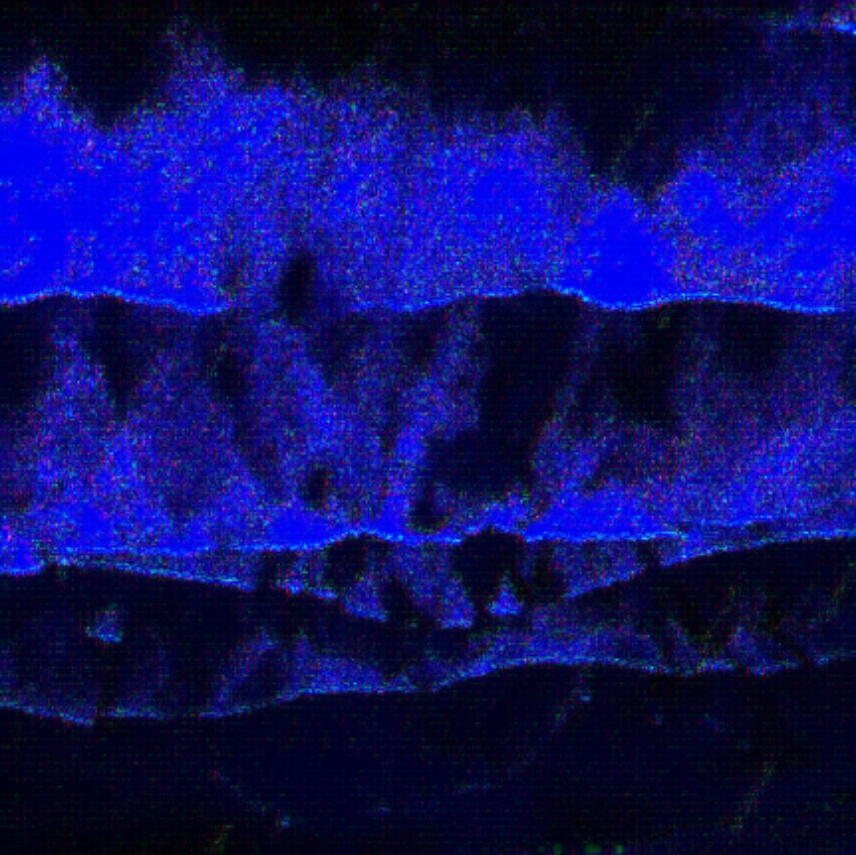rip_current: (377, 227, 610, 566)
